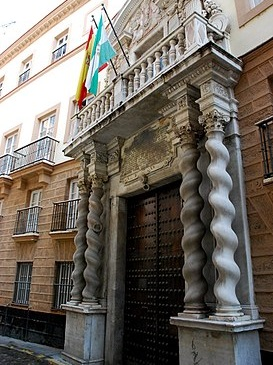columna-salomonica: (201, 130, 244, 318), (177, 136, 209, 313), (82, 186, 105, 302), (70, 189, 90, 301)
